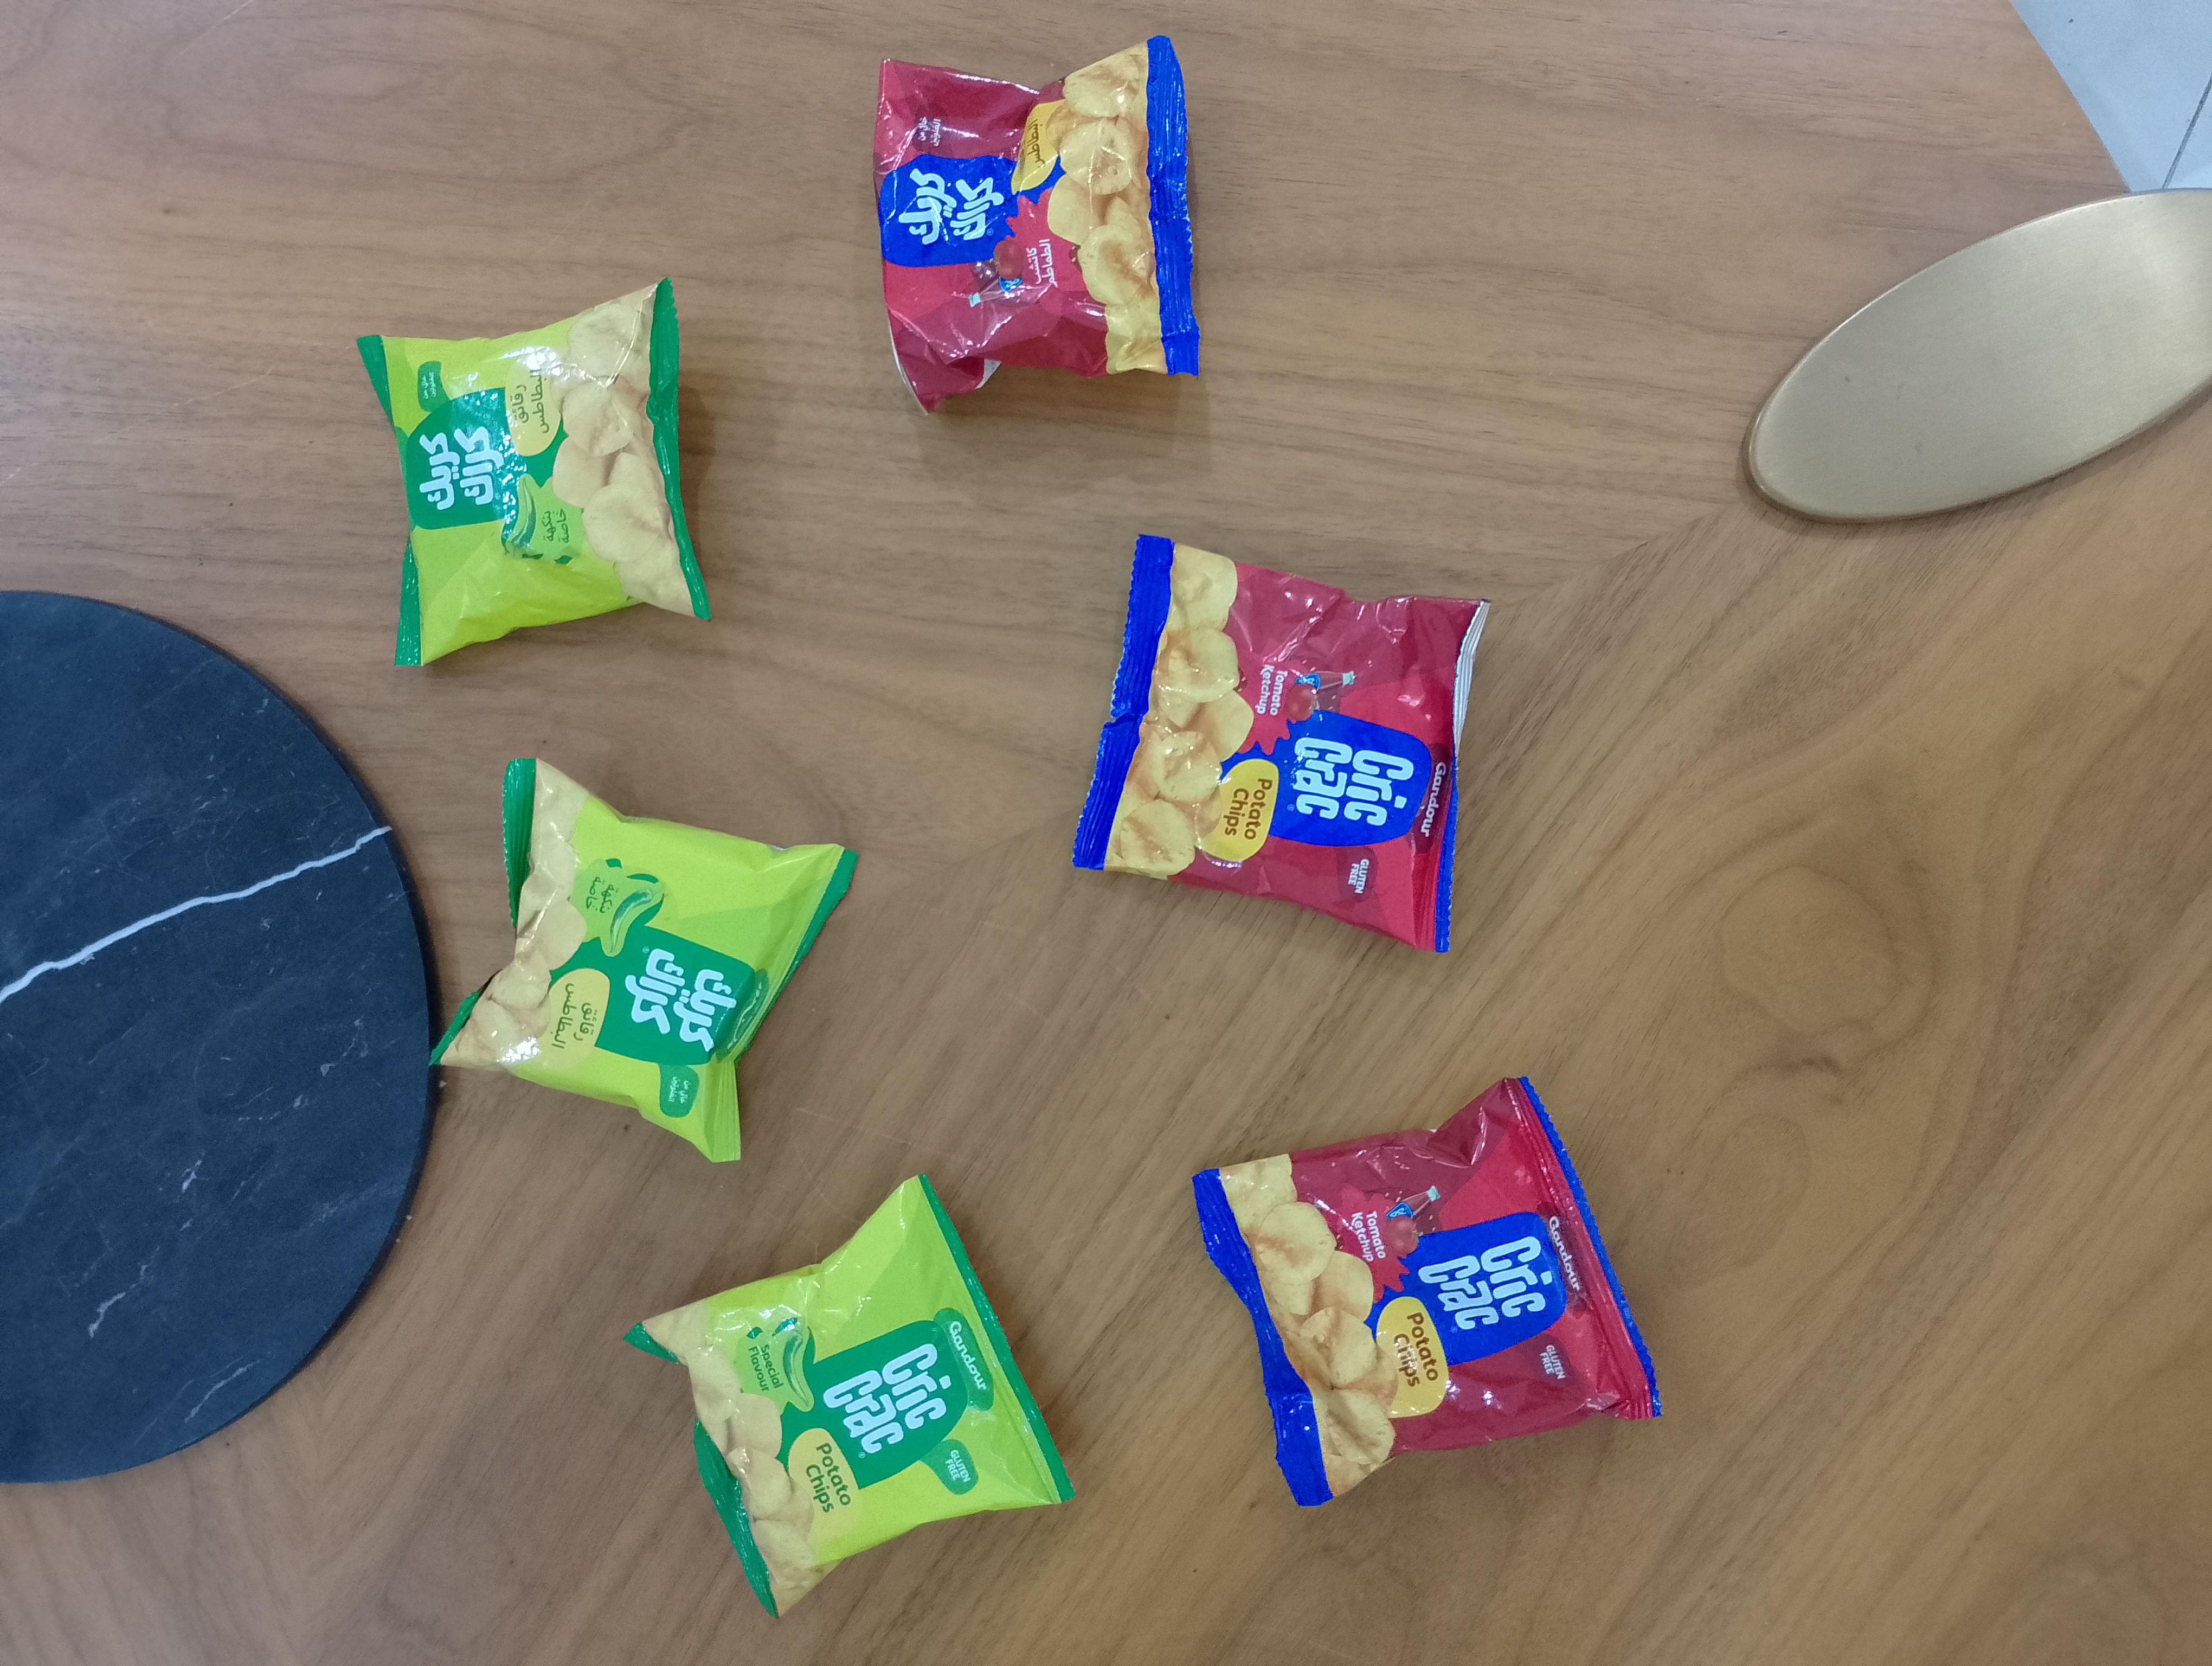cric_crac_special_flavour: (619, 1171, 1075, 1619), (427, 758, 860, 1164), (357, 275, 713, 667)
cric_crac_tomato_ketchup: (1189, 1074, 1665, 1509), (1068, 534, 1492, 956), (871, 33, 1198, 416)
